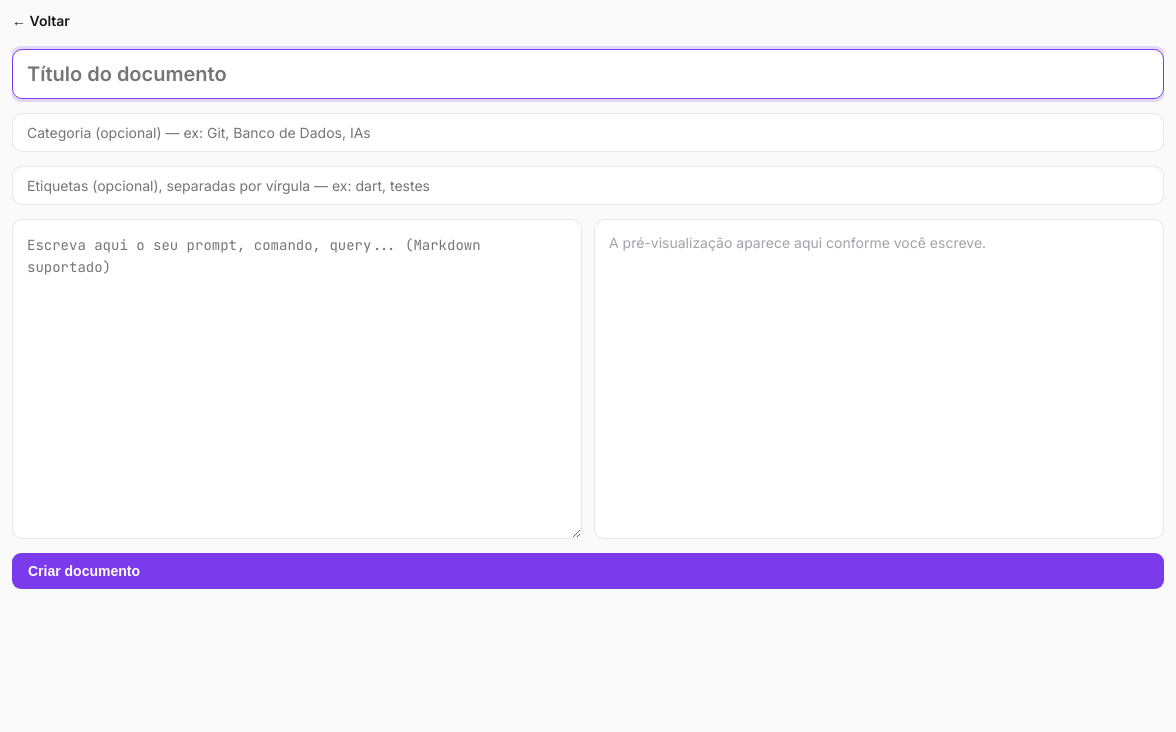
Test case: FormularioDocumento › CT-91: a pré-visualização renderiza o Markdown ao vivo conforme digita (spec 2.6)
Expected: the heading "Olá" is not shown
In the text box named "Conteúdo do documento": (297, 379) [12,219,582,539], type "# Olá"
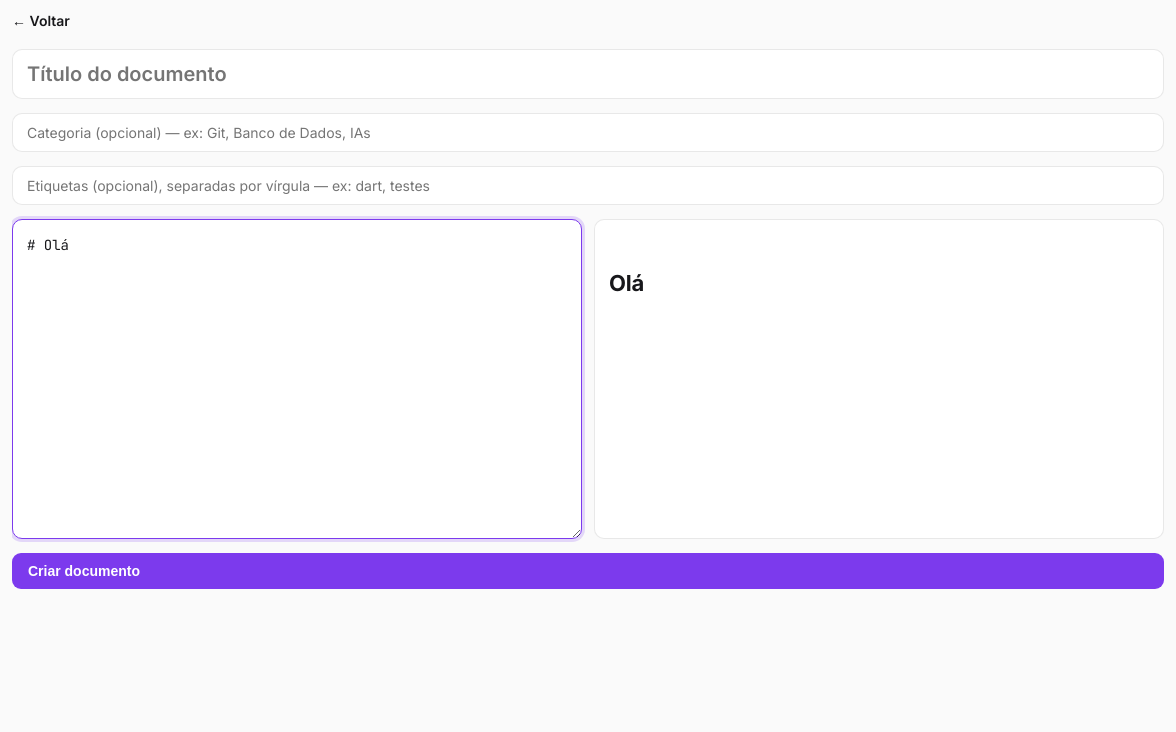
Expected: the heading "Olá" is shown, [609,270,644,296]
